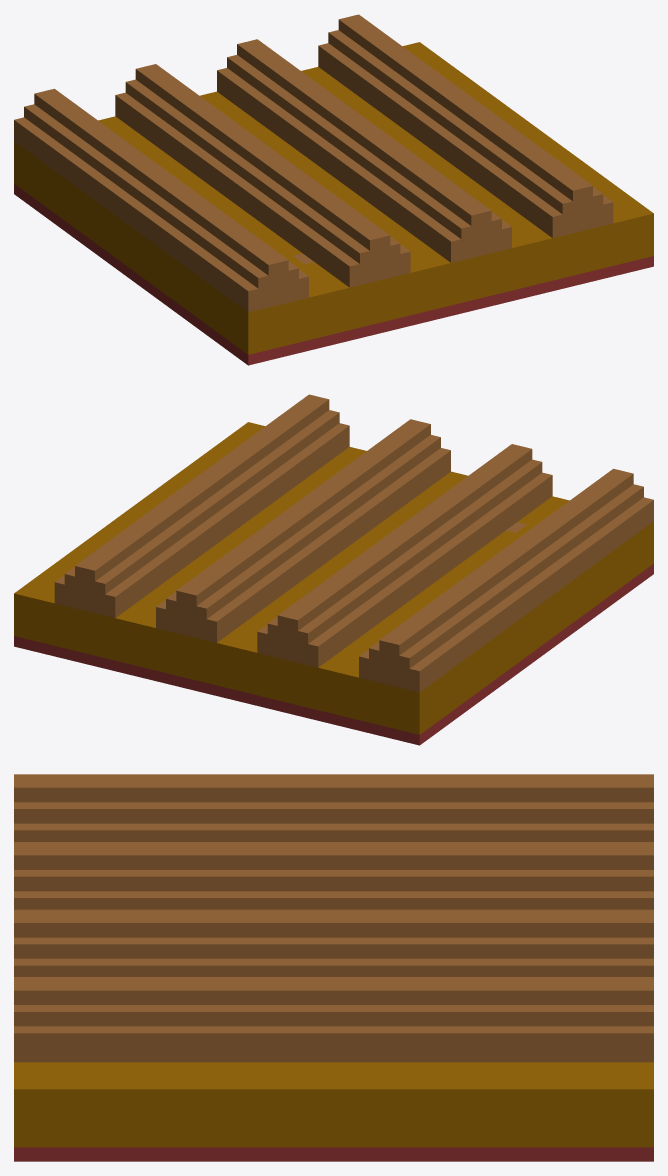
Rendered from ridge.obj.
3 renders of one model, top to bottom at view 1: azimuth 30°, elevation 25°; view 2: azimuth 150°, elevation 25°; view 3: azimuth 270°, elevation 25°, orthographic. The views are drawn at different scales.
Size of the model in its own units: 4 by 0.9 by 4.
Materials: 1 (1 with a texture image).
